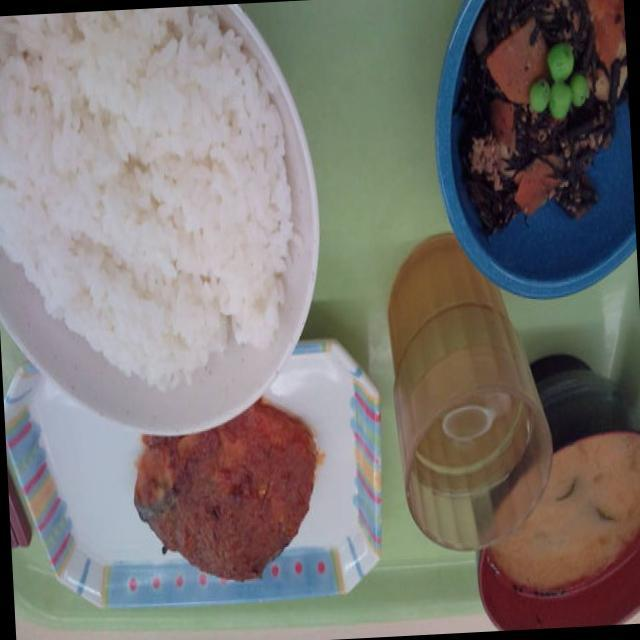Rice: (0, 1, 308, 403)
